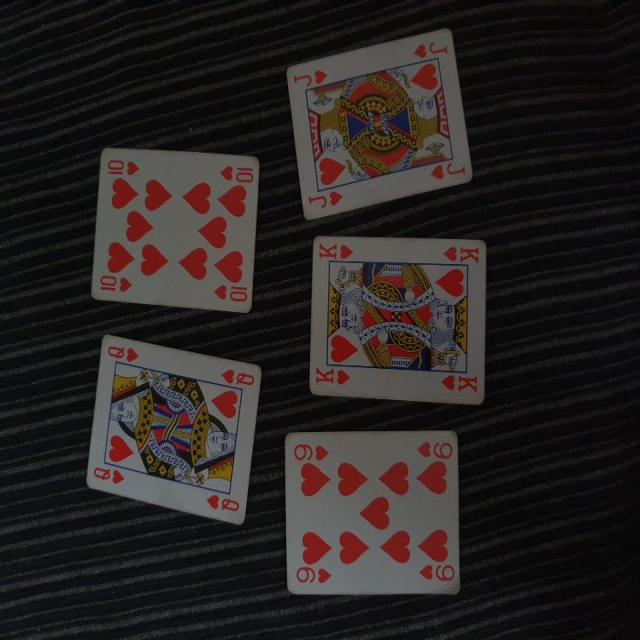10 Hearts: (78, 140, 263, 321)
9 Hearts: (272, 430, 473, 604)
J Hearts: (278, 23, 486, 224)
K Hearts: (306, 228, 490, 410)
Q Hearts: (86, 327, 264, 528)
